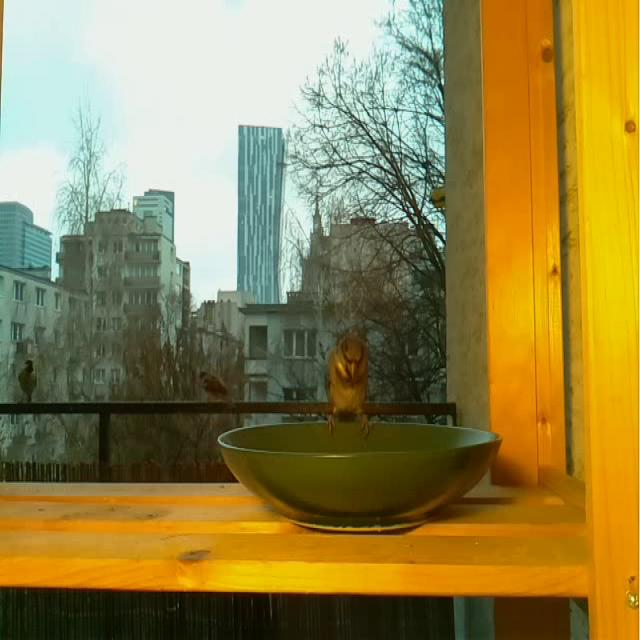Wrobel: (324, 336, 374, 427)
